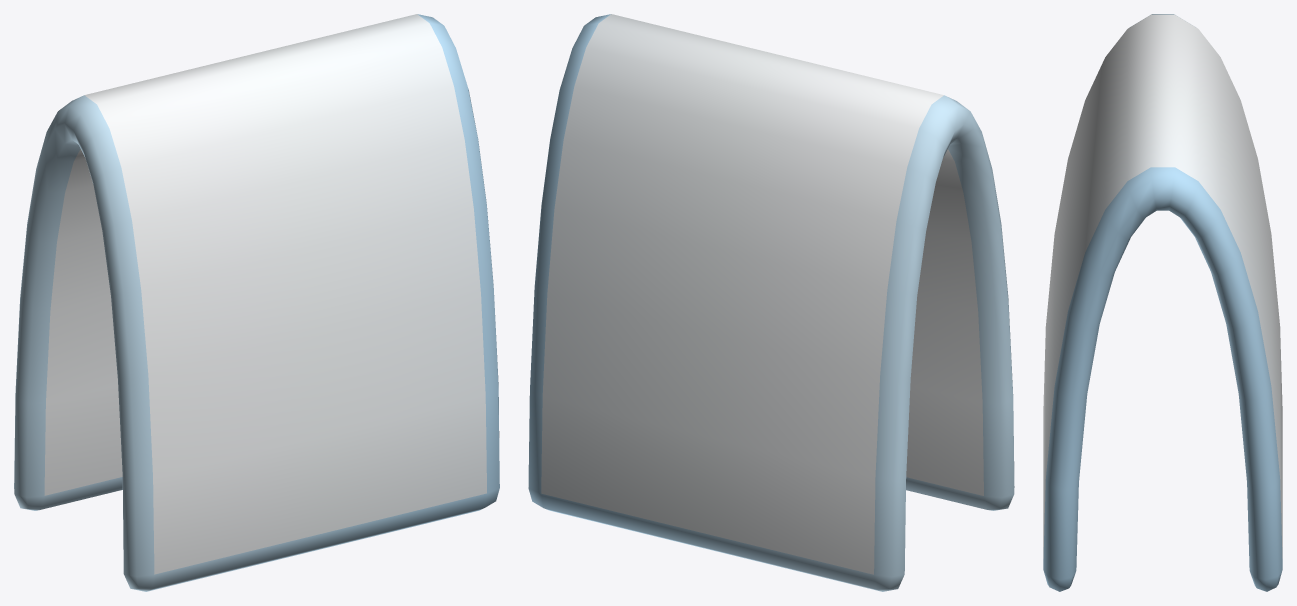
The model's file is towel.fbx.
3 renders of one model, left to right at view 1: azimuth 30°, elevation 25°; view 2: azimuth 150°, elevation 25°; view 3: azimuth 270°, elevation 25°, orthographic. The views are drawn at different scales.
Parts seen in each view (by area): view 1: towel; view 2: towel; view 3: towel.
Boxes of the visible parts, x1=… form: towel: x1=14, y1=14, x2=499, y2=591; towel: x1=528, y1=14, x2=1014, y2=591; towel: x1=1043, y1=14, x2=1282, y2=591.
Size of the model in its own units: 1 by 1.15 by 0.588.
